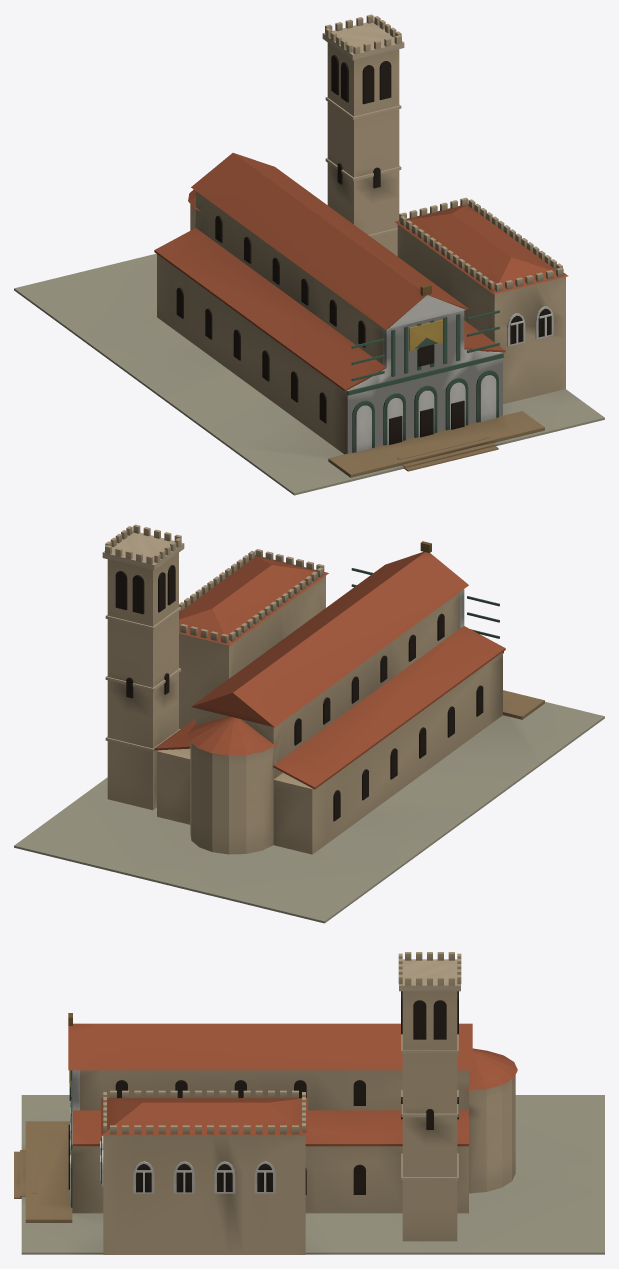
The model's file is san-miniato.glb.
3 views of the same model, one above another, from view 1: azimuth 30°, elevation 25°; view 2: azimuth 150°, elevation 25°; view 3: azimuth 270°, elevation 25° (orthographic). The views are drawn at different scales.
Parts seen in each view (by area): view 1: p0_walls, p3_palace and tower, p1_roofs, p2_façade; view 2: p0_walls, p3_palace and tower, p1_roofs, p2_façade; view 3: p0_walls, p3_palace and tower, p1_roofs, p2_façade.
Boxes of the visible parts, box(x1,y1,x2,y2) form: p0_walls: box(14, 189, 604, 495); p3_palace and tower: box(322, 14, 568, 404); p1_roofs: box(154, 153, 505, 391); p2_façade: box(328, 284, 544, 477); p0_walls: box(14, 592, 604, 923); p3_palace and tower: box(102, 524, 328, 810); p1_roofs: box(154, 551, 505, 789); p2_façade: box(351, 541, 544, 719); p0_walls: box(21, 1048, 604, 1254); p3_palace and tower: box(100, 952, 461, 1254); p1_roofs: box(68, 1023, 472, 1146); p2_façade: box(14, 1013, 79, 1222).
Bounding box in the file's own units: 48.46 × 37.83 × 76.
